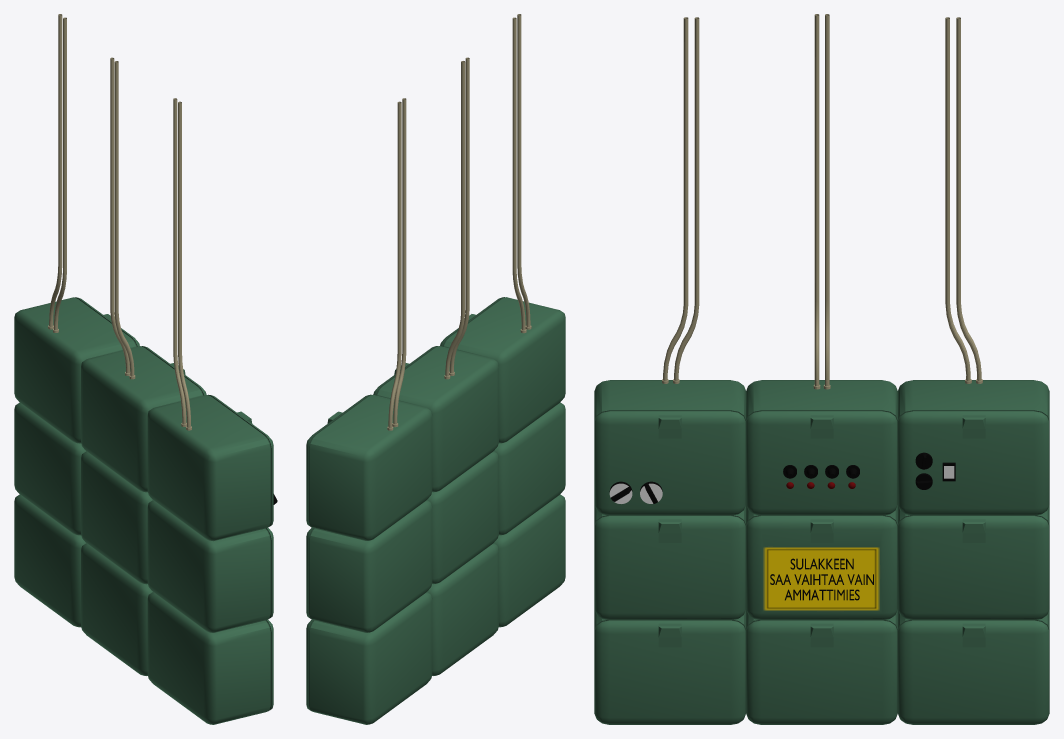
File: weird green boxes.fbx
The picture shows the model from 3 angles, left to right: view 1: azimuth 30°, elevation 25°; view 2: azimuth 150°, elevation 25°; view 3: azimuth 270°, elevation 25°; orthographic projection. The views are drawn at different scales.
Visible parts, largest first — view 1: Cube; view 2: Cube; view 3: Cube.
Part boxes in pixels (box(x1,y1,x2,y2)): Cube: box(14, 14, 277, 724); Cube: box(306, 14, 565, 724); Cube: box(594, 14, 1049, 724).
Size of the model in its own units: 174 by 1297 by 789.
Materials: 1 (1 with a texture image).
